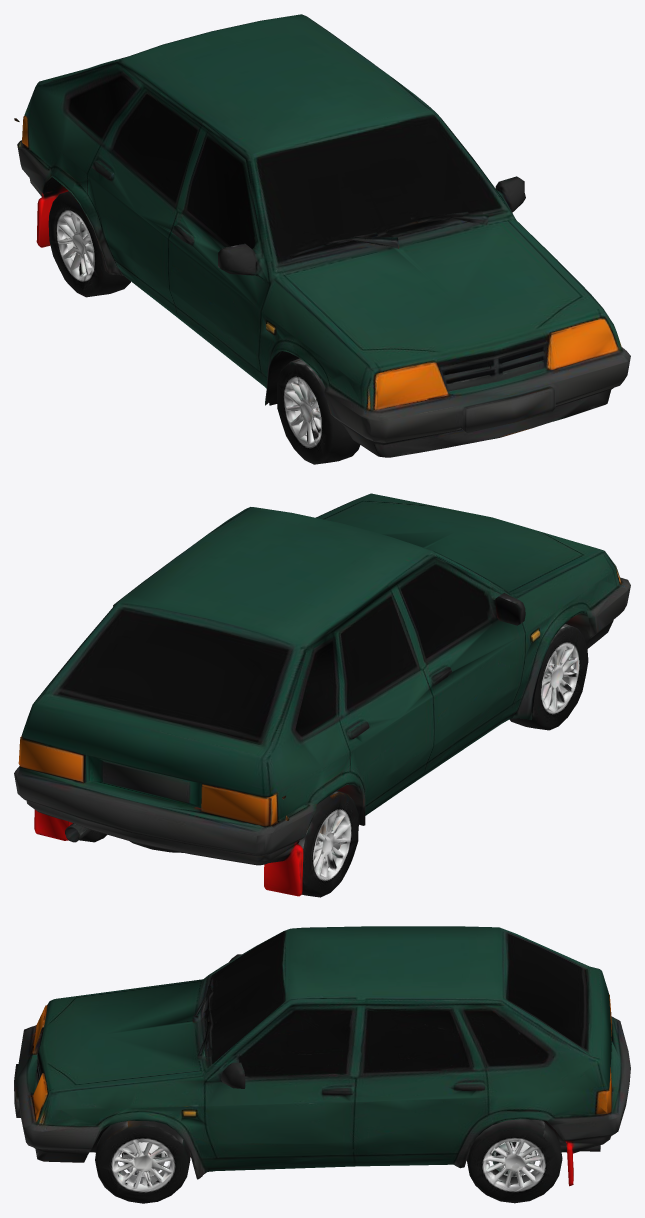
File: devyatka.glb
3 renders of one model, top to bottom at view 1: azimuth 30°, elevation 25°; view 2: azimuth 150°, elevation 25°; view 3: azimuth 270°, elevation 25°, orthographic. The views are drawn at different scales.
Parts seen in each view (by area): view 1: Body, Glass, Wheel_FR, Wheel_RR; view 2: Body, Glass, Wheel_RR, Wheel_FR; view 3: Body, Glass, Wheel_FL, Wheel_RL.
Boxes of the visible parts, box(x1,y1,x2,y2) form: Body: box(16, 14, 630, 463); Glass: box(14, 69, 613, 392); Wheel_FR: box(277, 362, 331, 464); Wheel_RR: box(48, 191, 100, 297); Body: box(14, 507, 630, 896); Glass: box(20, 493, 616, 824); Wheel_RR: box(298, 796, 358, 897); Wheel_FR: box(512, 626, 588, 730); Body: box(14, 926, 630, 1186); Glass: box(37, 954, 611, 1118); Wheel_FL: box(90, 1125, 190, 1203); Wheel_RL: box(469, 1120, 566, 1203).
Bounding box in the file's own units: 1.86 × 1.41 × 4.01.
2 materials, 2 textured.
